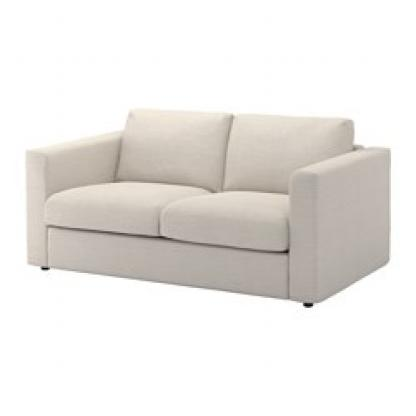Sofa: (17, 98, 394, 308)
